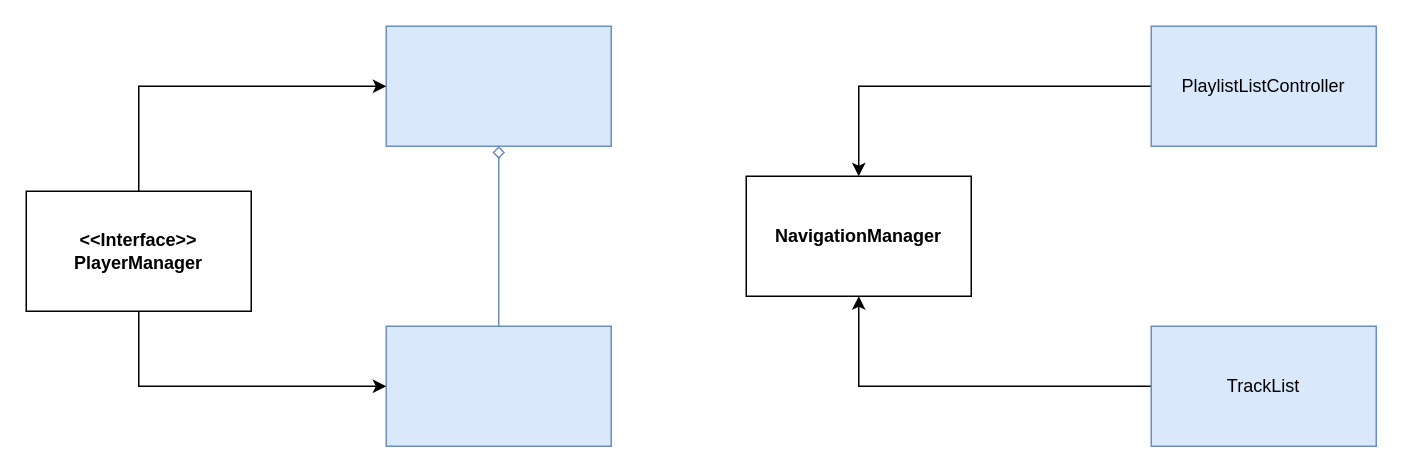
The diagram is 1403 pixels wide and 473 high, and some of its shapes have lost their labels. The box of each missing label's shape, as (x1, y1, x2, y2) in pixels:
Playlist: (385, 25, 611, 146)
Track: (385, 325, 611, 446)
